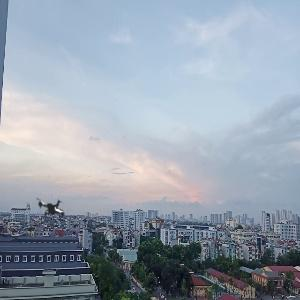drone: (13, 158, 96, 241)
